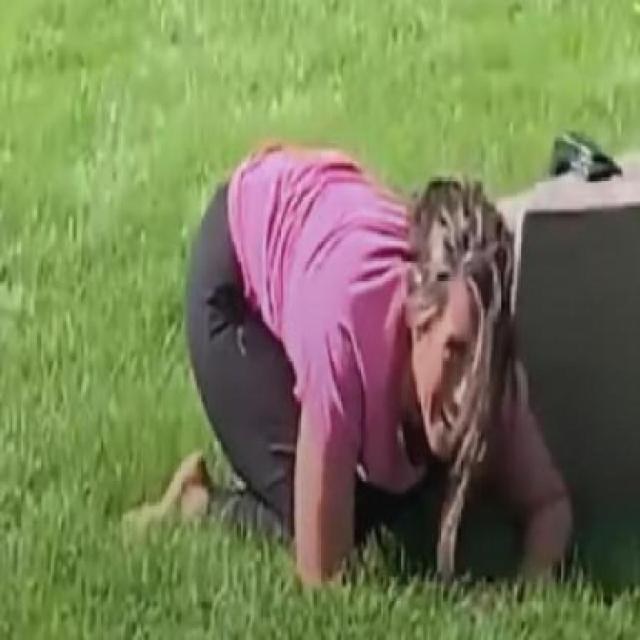fall: (182, 135, 562, 607)
